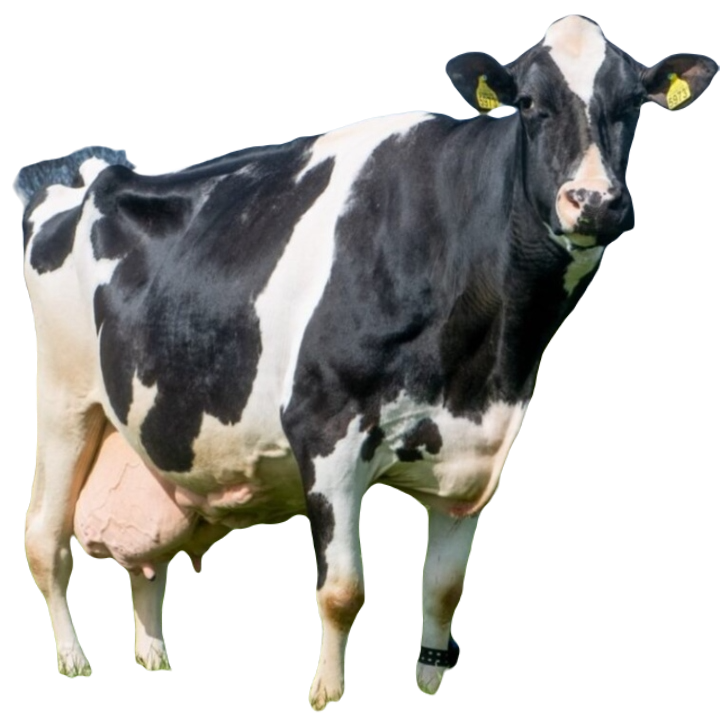Cow: (13, 10, 719, 706)
